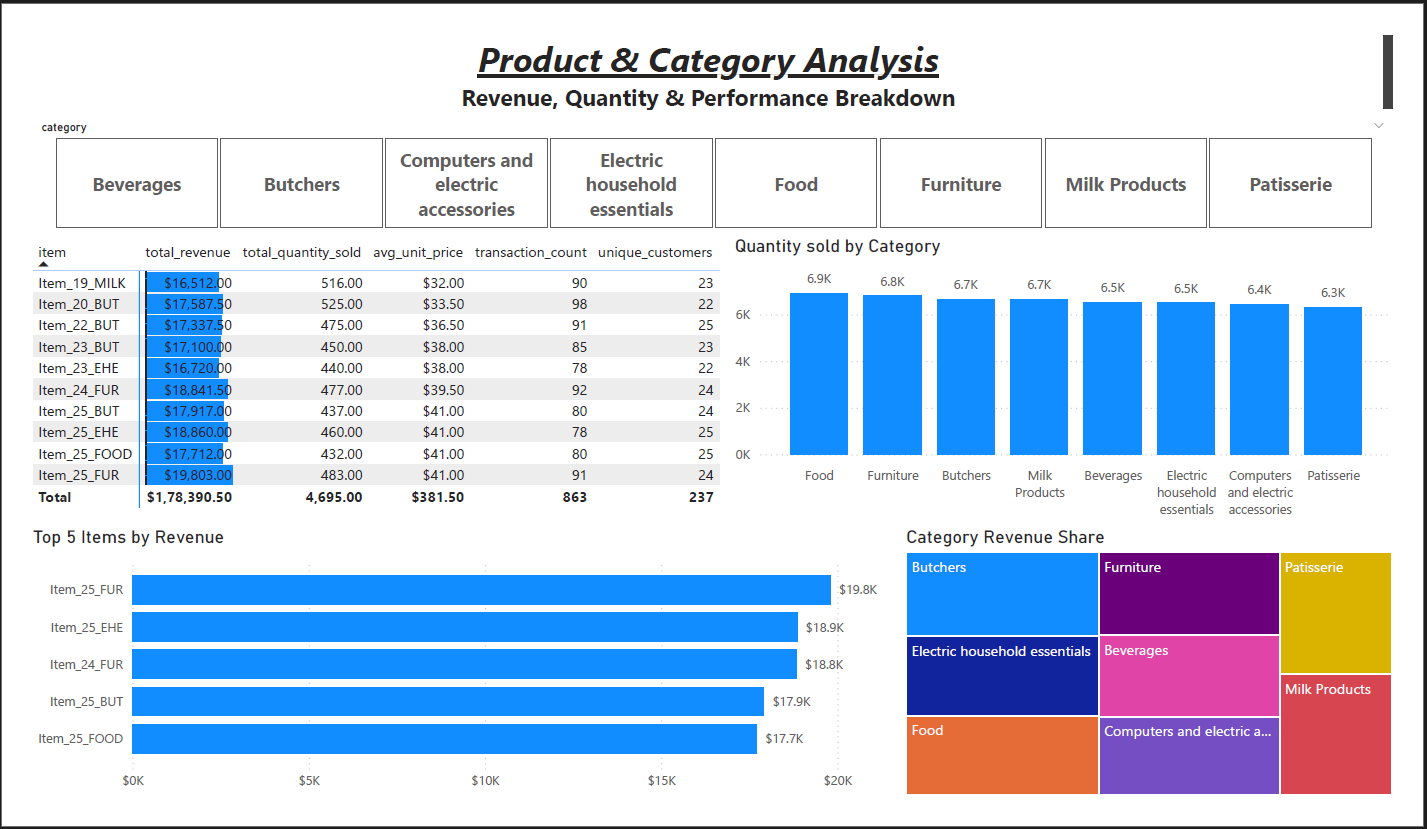

Layout of this report page (visuals, bound fields, positions):
{"tool":"powerbi","page":{"name":"Product & Category","canvas":[1280,720],"ordinal":1},"visuals":[{"type":"textbox","box":[0,0,1280,80],"z":0},{"type":"slicer","fields":{"Values":["gold product_performance.category"]},"box":[0,80,1280,112],"z":1000},{"type":"pivotTable","fields":{"Rows":["gold product_performance.item"],"Values":["Sum(gold product_performance.total_revenue)","Sum(gold product_performance.total_quantity_sold)","Sum(gold product_performance.avg_unit_price)","Sum(gold product_performance.transaction_count)","Sum(gold product_performance.unique_customers)"]},"box":[0,192,656,272],"z":2000},{"type":"clusteredBarChart","title":"Top 5 Items by Revenue","fields":{"Category":["gold product_performance.item"],"Y":["Sum(gold product_performance.total_revenue)"]},"box":[0,464,816,256],"z":3000},{"type":"treemap","title":"Category Revenue Share","fields":{"Group":["gold category_analysis.category"],"Values":["Sum(gold category_analysis.total_revenue)"]},"box":[816,464,464,256],"z":4000},{"type":"clusteredColumnChart","title":"Quantity sold by Category","fields":{"Category":["gold category_analysis.category"],"Y":["Sum(gold category_analysis.total_quantity_sold)"]},"box":[656,192,624,272],"z":5000}]}

Visuals, with their boxes on the page's 1280x720 design canvas (x1, y1, x2, y2). These are canvas units, not pixel positions in the 1427x829 screenshot, which may show the page scaled, cropped or inside an application window:
textbox: rect(0, 0, 1280, 80)
slicer - gold product_performance.category: rect(0, 80, 1280, 192)
pivotTable - gold product_performance.item x Sum(gold product_performance.total_revenue): rect(0, 192, 656, 464)
"Top 5 Items by Revenue" clusteredBarChart: rect(0, 464, 816, 720)
"Category Revenue Share" treemap: rect(816, 464, 1280, 720)
"Quantity sold by Category" clusteredColumnChart: rect(656, 192, 1280, 464)
